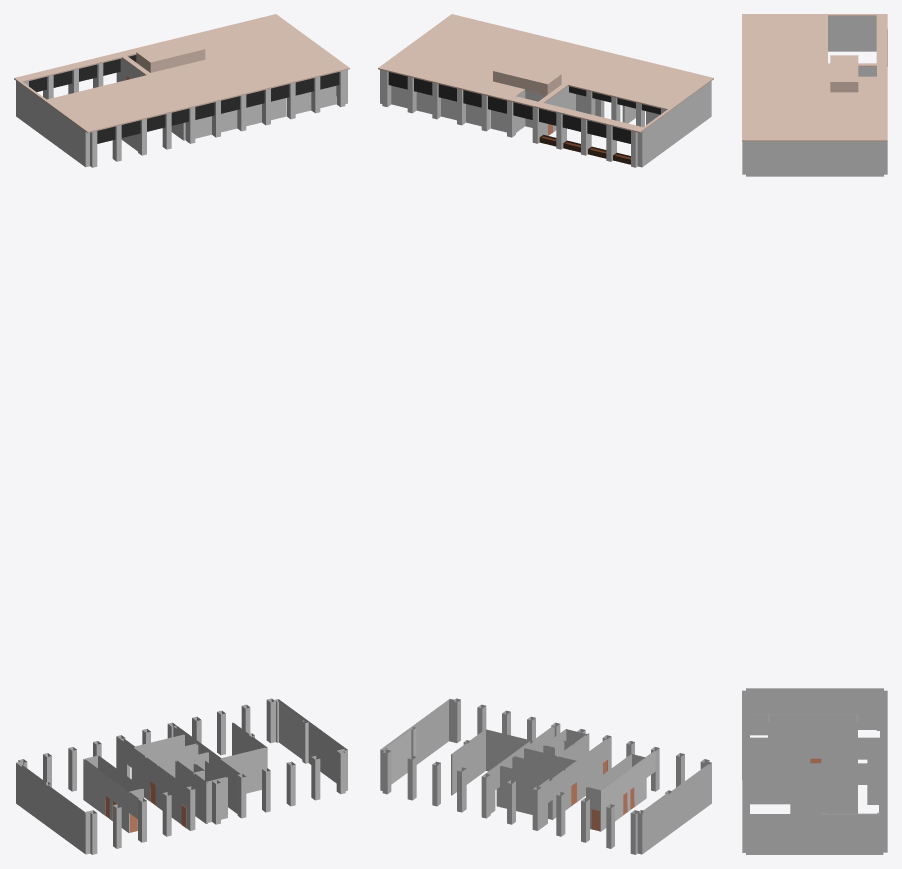
The model's file is MSH_Torre-B_Planta-baja.fbx.
The picture shows the model from 3 angles, left to right: view 1: azimuth 30°, elevation 25°; view 2: azimuth 150°, elevation 25°; view 3: azimuth 270°, elevation 25°; orthographic projection.
Parts seen in each view (by area): view 1: MSH_Torre_2.Azotea, MSH_Torre_2_Piso_1.078, MSH_Muros_Lobby_T2, MSH_Azotea-terraza-food-lab_Torre-B, MSH_Techo-food-lab_Torre-B; view 2: MSH_Torre_2.Azotea, MSH_Torre_2_Piso_1.078, MSH_Muros_Lobby_T2, MSH_Azotea-terraza-food-lab_Torre-B, MSH_Techo-food-lab_Torre-B, MSH_Macetas; view 3: MSH_Torre_2.Azotea, MSH_Torre_2_Piso_1.078, MSH_Muros_Lobby_T2, MSH_Techo-food-lab_Torre-B, MSH_Azotea-terraza-food-lab_Torre-B.
Boxes of the visible parts, x1,y1,x2,y2 form: MSH_Torre_2.Azotea: [122, 14, 349, 138]; MSH_Torre_2_Piso_1.078: [16, 698, 347, 854]; MSH_Muros_Lobby_T2: [83, 722, 267, 832]; MSH_Azotea-terraza-food-lab_Torre-B: [14, 52, 195, 167]; MSH_Techo-food-lab_Torre-B: [52, 80, 195, 132]; MSH_Torre_2.Azotea: [378, 14, 605, 132]; MSH_Torre_2_Piso_1.078: [380, 698, 711, 854]; MSH_Muros_Lobby_T2: [451, 726, 655, 831]; MSH_Azotea-terraza-food-lab_Torre-B: [507, 78, 711, 167]; MSH_Techo-food-lab_Torre-B: [571, 51, 713, 104]; MSH_Macetas: [539, 134, 630, 164]; MSH_Torre_2.Azotea: [742, 55, 887, 176]; MSH_Torre_2_Piso_1.078: [742, 688, 887, 854]; MSH_Muros_Lobby_T2: [748, 714, 879, 813]; MSH_Techo-food-lab_Torre-B: [742, 14, 812, 65]; MSH_Azotea-terraza-food-lab_Torre-B: [812, 14, 887, 76].
Size of the model in its own units: 3226 by 8638 by 1573.
